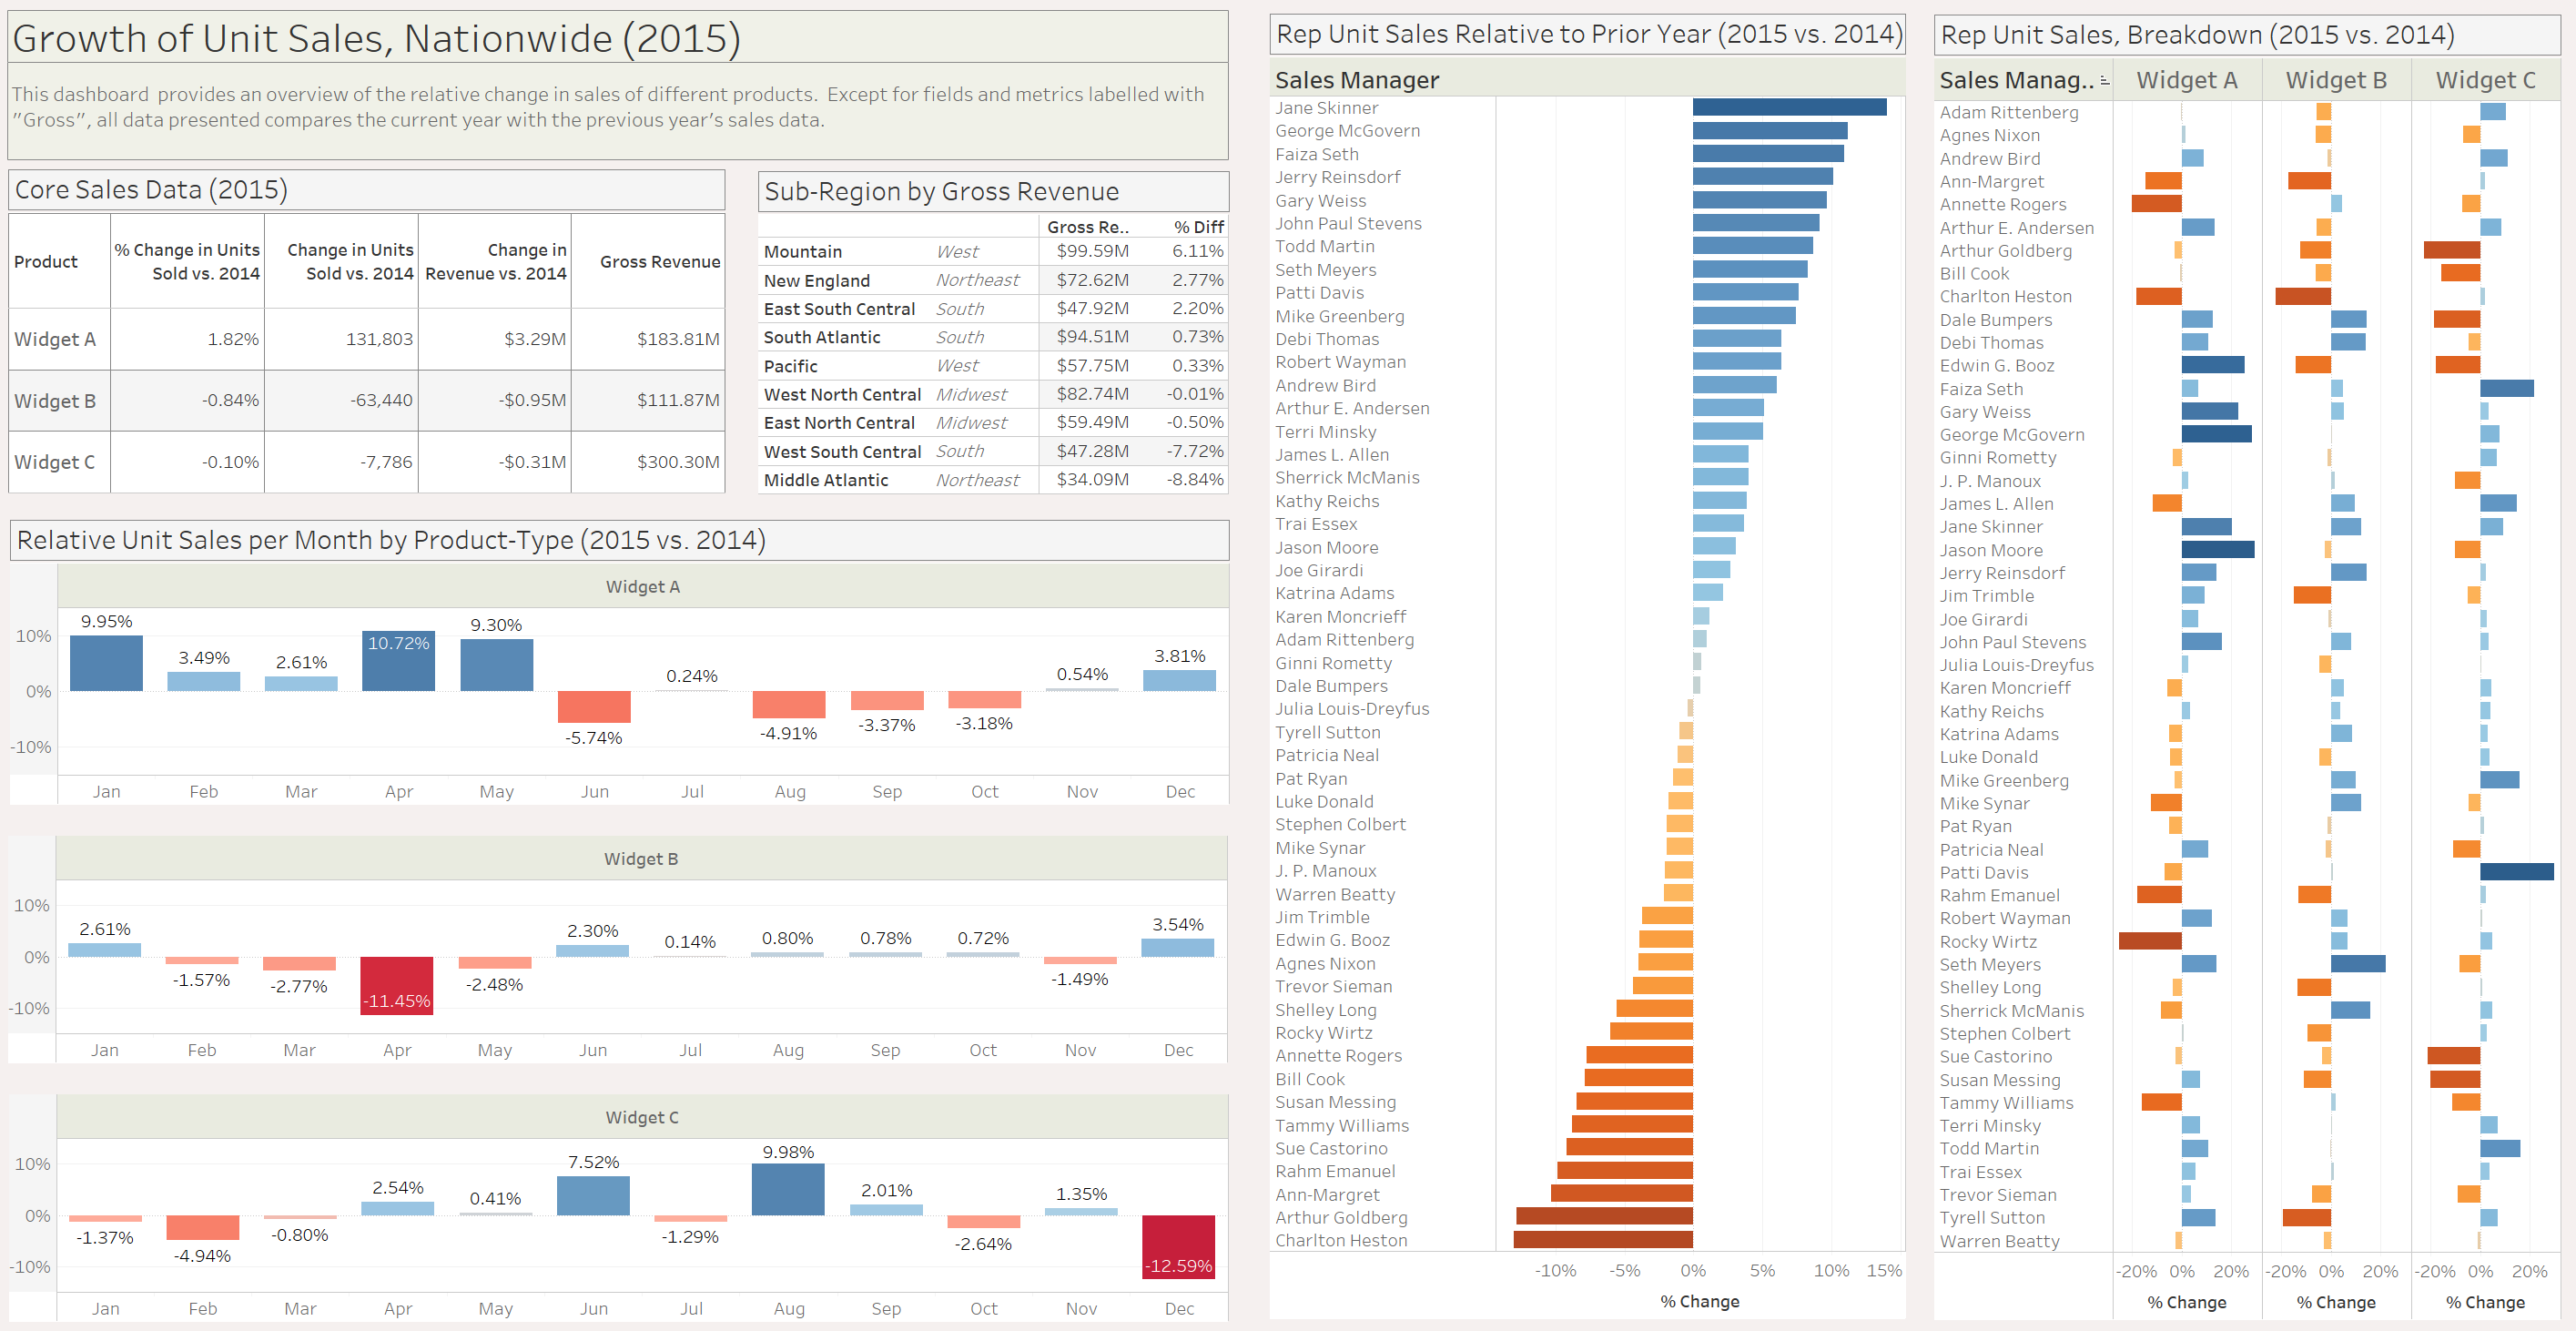

The page's visual inventory and layout, read from the dashboard file:
{"tool":"tableau","page":{"name":"Growth of Unit Sales, Nationwide (2015)","canvas":[2849,1495],"ordinal":0},"visuals":[{"type":"title","box":[21,20,1342,58]},{"type":"worksheet","title":" Rep Unit Sales Relative to Prior Year (2015 vs. 2014)","mark":"Automatic","rows":["Year","Sales Manager"],"box":[1408,24,699,1435]},{"type":"worksheet","title":" Rep Unit Sales, Breakdown (2015 vs. 2014)","mark":"Automatic","rows":["Year","Sales Manager"],"cols":["Product"],"box":[2138,25,689,1434]},{"type":"text","box":[21,66,1342,119]},{"type":"worksheet","title":" Core Sales Data (2015)","mark":"Automatic","rows":["Year","Product"],"box":[22,195,788,356]},{"type":"worksheet","title":" Sub-Region by Gross Revenue","mark":"Automatic","rows":["Sub-Region","Region","Year"],"box":[846,197,518,355]},{"type":"worksheet","title":" Relative Unit Sales per Month by Product-Type (2015 vs. 2014)","mark":"Automatic","cols":["Product","Year","Month"],"box":[24,580,1340,313]},{"type":"worksheet","title":"Sheet 16","mark":"Automatic","cols":["Product","Year","Month"],"box":[22,927,1340,250]},{"type":"worksheet","title":"Sheet 17","mark":"Automatic","cols":["Product","Year","Month"],"box":[23,1211,1340,250]}]}

Visuals, with their boxes in screenshot pixels (x1, y1, x2, y2), scaled from the page's 2849x1495 canvas onto the 2576x1331 screenshot:
title: (x1=19, y1=18, x2=1232, y2=69)
" Rep Unit Sales Relative to Prior Year (2015 vs. 2014)" worksheet: (x1=1273, y1=21, x2=1905, y2=1299)
" Rep Unit Sales, Breakdown (2015 vs. 2014)" worksheet: (x1=1933, y1=22, x2=2556, y2=1299)
text: (x1=19, y1=59, x2=1232, y2=165)
" Core Sales Data (2015)" worksheet: (x1=20, y1=174, x2=733, y2=491)
" Sub-Region by Gross Revenue" worksheet: (x1=765, y1=176, x2=1233, y2=492)
" Relative Unit Sales per Month by Product-Type (2015 vs. 2014)" worksheet: (x1=22, y1=516, x2=1233, y2=795)
"Sheet 16" worksheet: (x1=20, y1=826, x2=1232, y2=1048)
"Sheet 17" worksheet: (x1=21, y1=1078, x2=1232, y2=1301)
